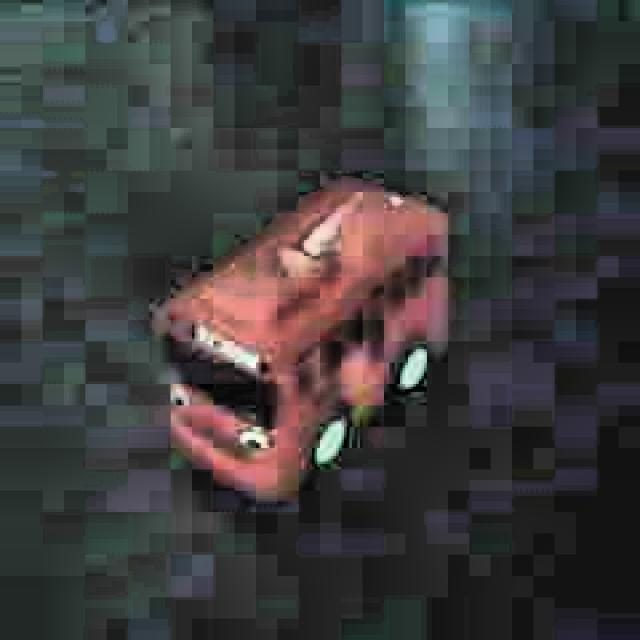bus: (152, 168, 460, 522)
